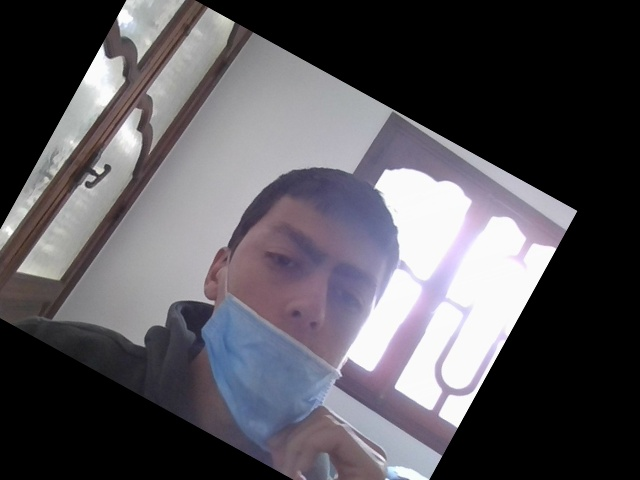mask_weared_incorrect: (204, 196, 391, 435)
